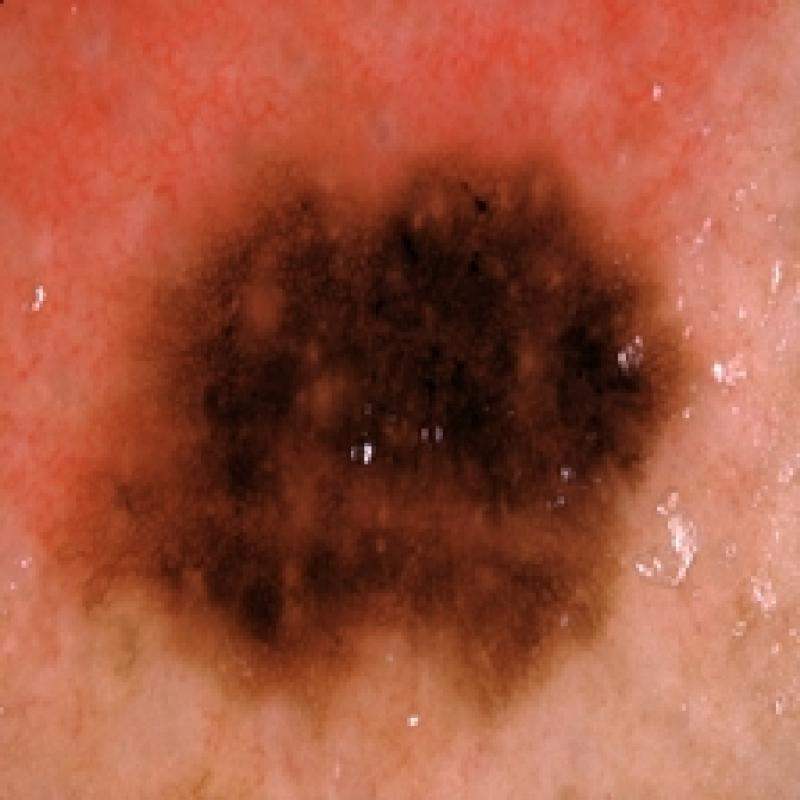malignant: (78, 155, 699, 709), (726, 604, 726, 604)
